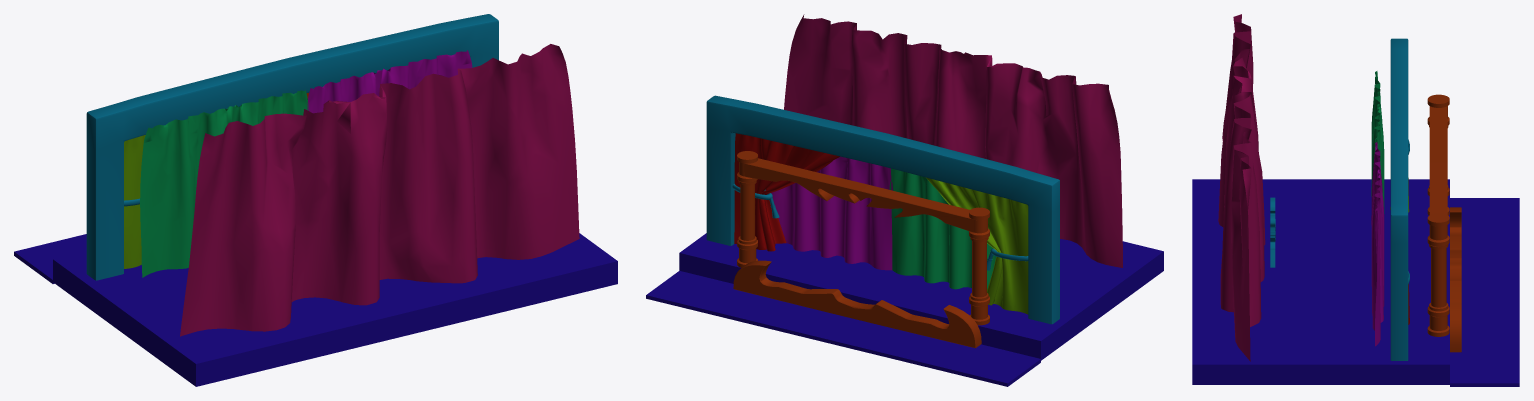
File: sala boss completamente dettachada.fbx
The picture shows the model from 3 angles, left to right: view 1: azimuth 30°, elevation 25°; view 2: azimuth 150°, elevation 25°; view 3: azimuth 270°, elevation 25°; orthographic projection. The views are drawn at different scales.
Visible parts, largest first — view 1: sala boss detachada, telon031, telon032; view 2: sala boss detachada, telon032, telon031; view 3: sala boss detachada, telon032, telon031.
Part boxes in pixels (x1,y1,x2,y2): sala boss detachada: (14, 14, 617, 386); telon031: (140, 89, 308, 277); telon032: (307, 50, 472, 113); sala boss detachada: (646, 14, 1163, 386); telon032: (771, 156, 892, 270); telon031: (889, 168, 996, 289); sala boss detachada: (1192, 14, 1519, 386); telon032: (1371, 142, 1384, 346); telon031: (1371, 71, 1384, 213).
Bounding box in the file's own units: 3374 × 1743 × 2522.
